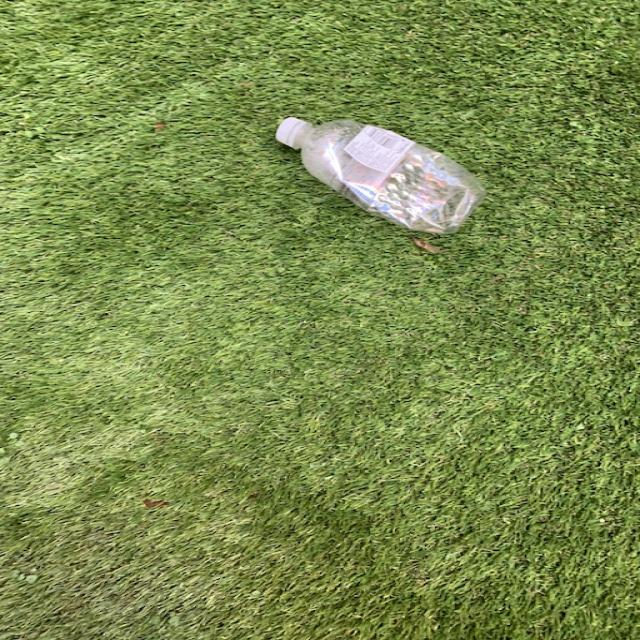litter: (261, 112, 489, 238)
